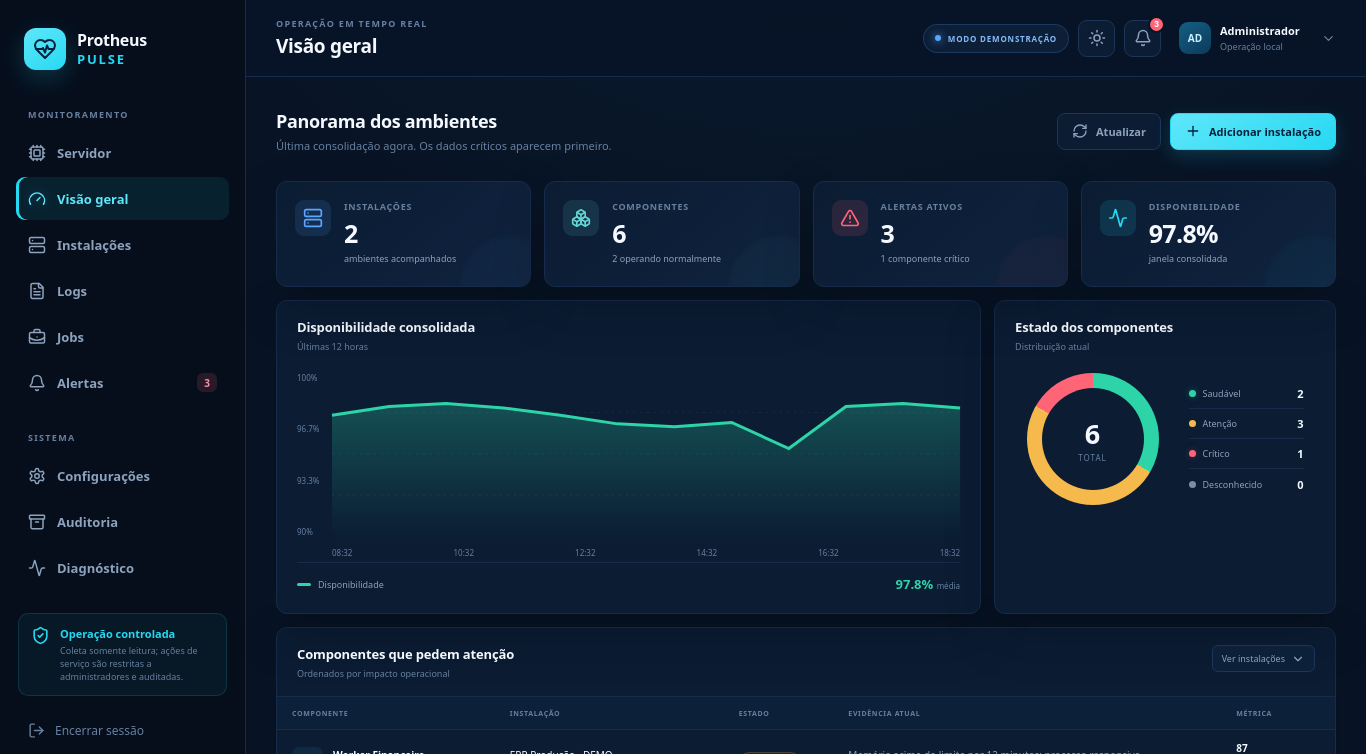
Scenario: App › permite descobrir um serviço sem usar PowerShell
Check: the heading "Panorama dos ambientes" is shown, box left=276, top=109, right=497, bottom=133
Click the button "Adicionar instalação" at (1253, 131), box left=1170, top=112, right=1336, bottom=150
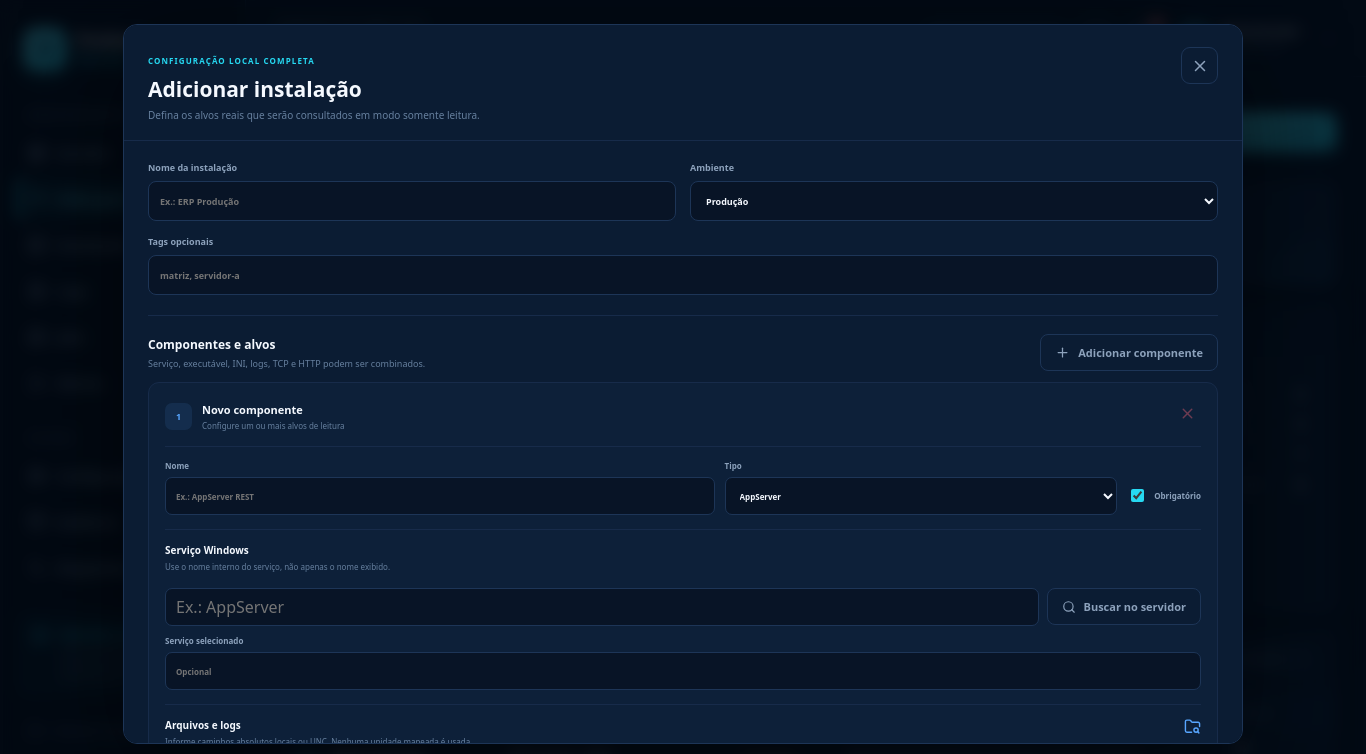
Type "AppServer" into the field named "Buscar serviço do componente 1" at (602, 607), box left=165, top=588, right=1038, bottom=626
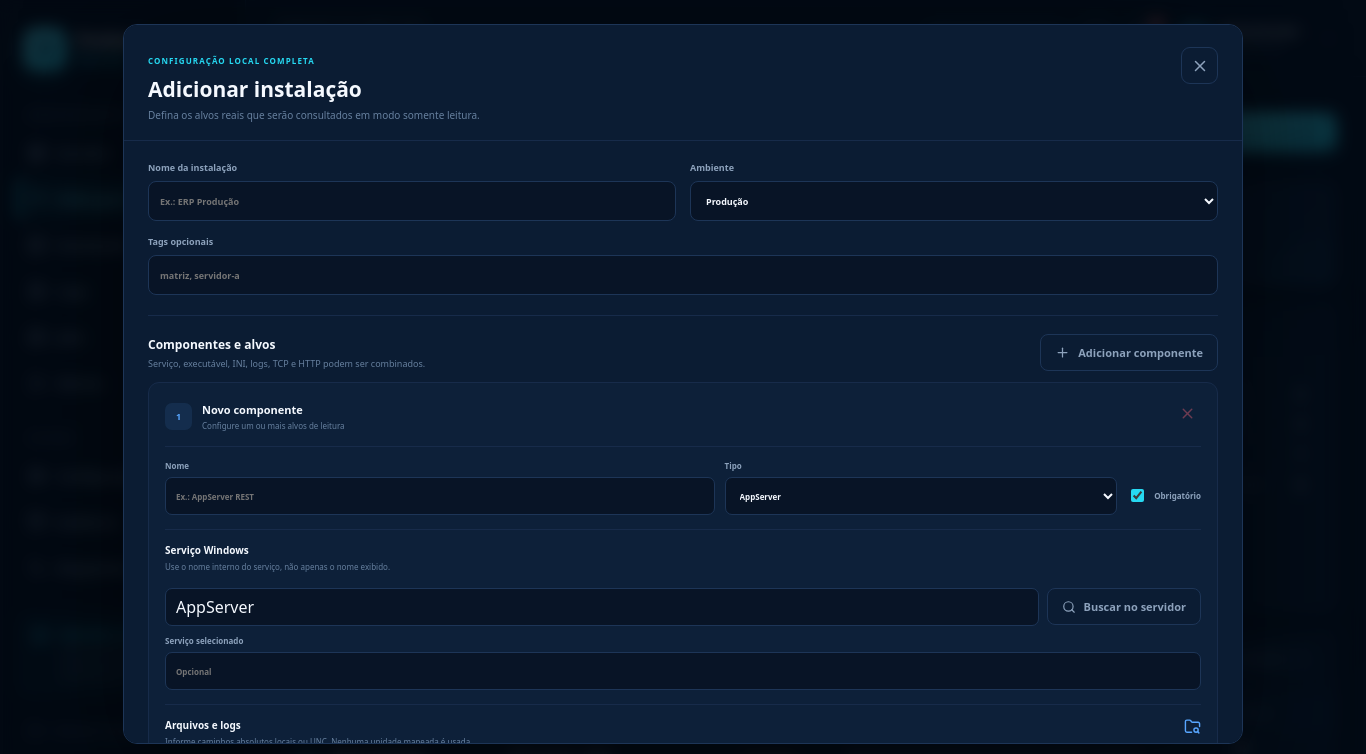
Click the button "Buscar no servidor" at (1124, 606), box left=1046, top=588, right=1201, bottom=625
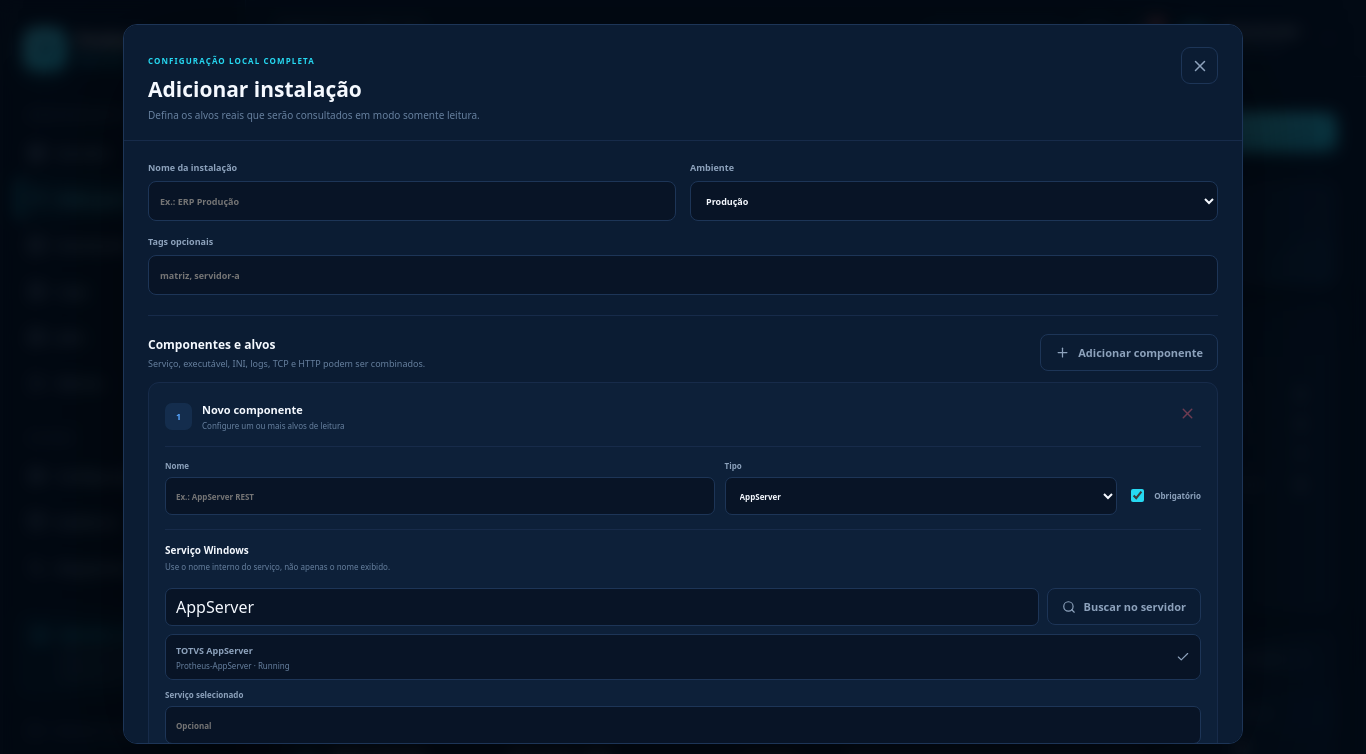
Click the button "TOTVS AppServer Protheus-AppServer · Running" at (214, 650), box left=166, top=635, right=1200, bottom=679
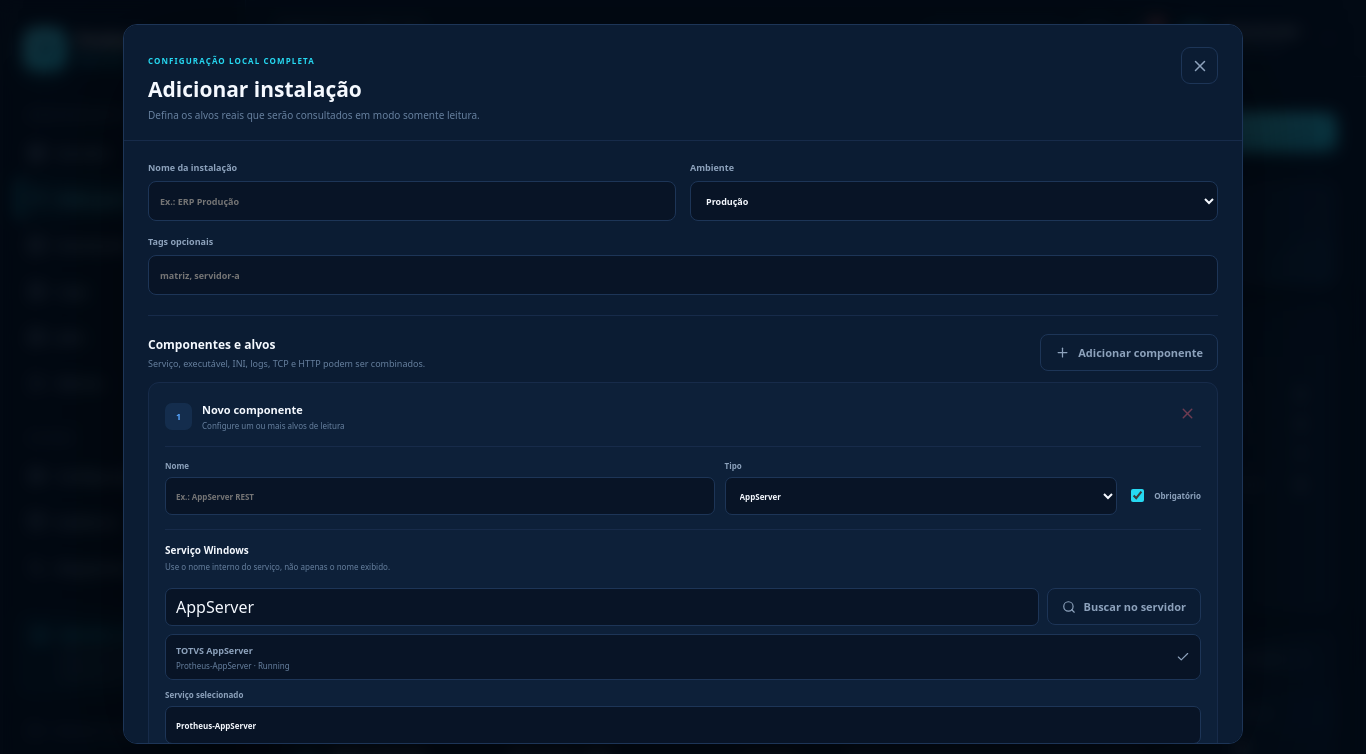
Check: the field named "Nome do serviço Windows 1" holds "Protheus-AppServer", box left=165, top=706, right=1201, bottom=744
